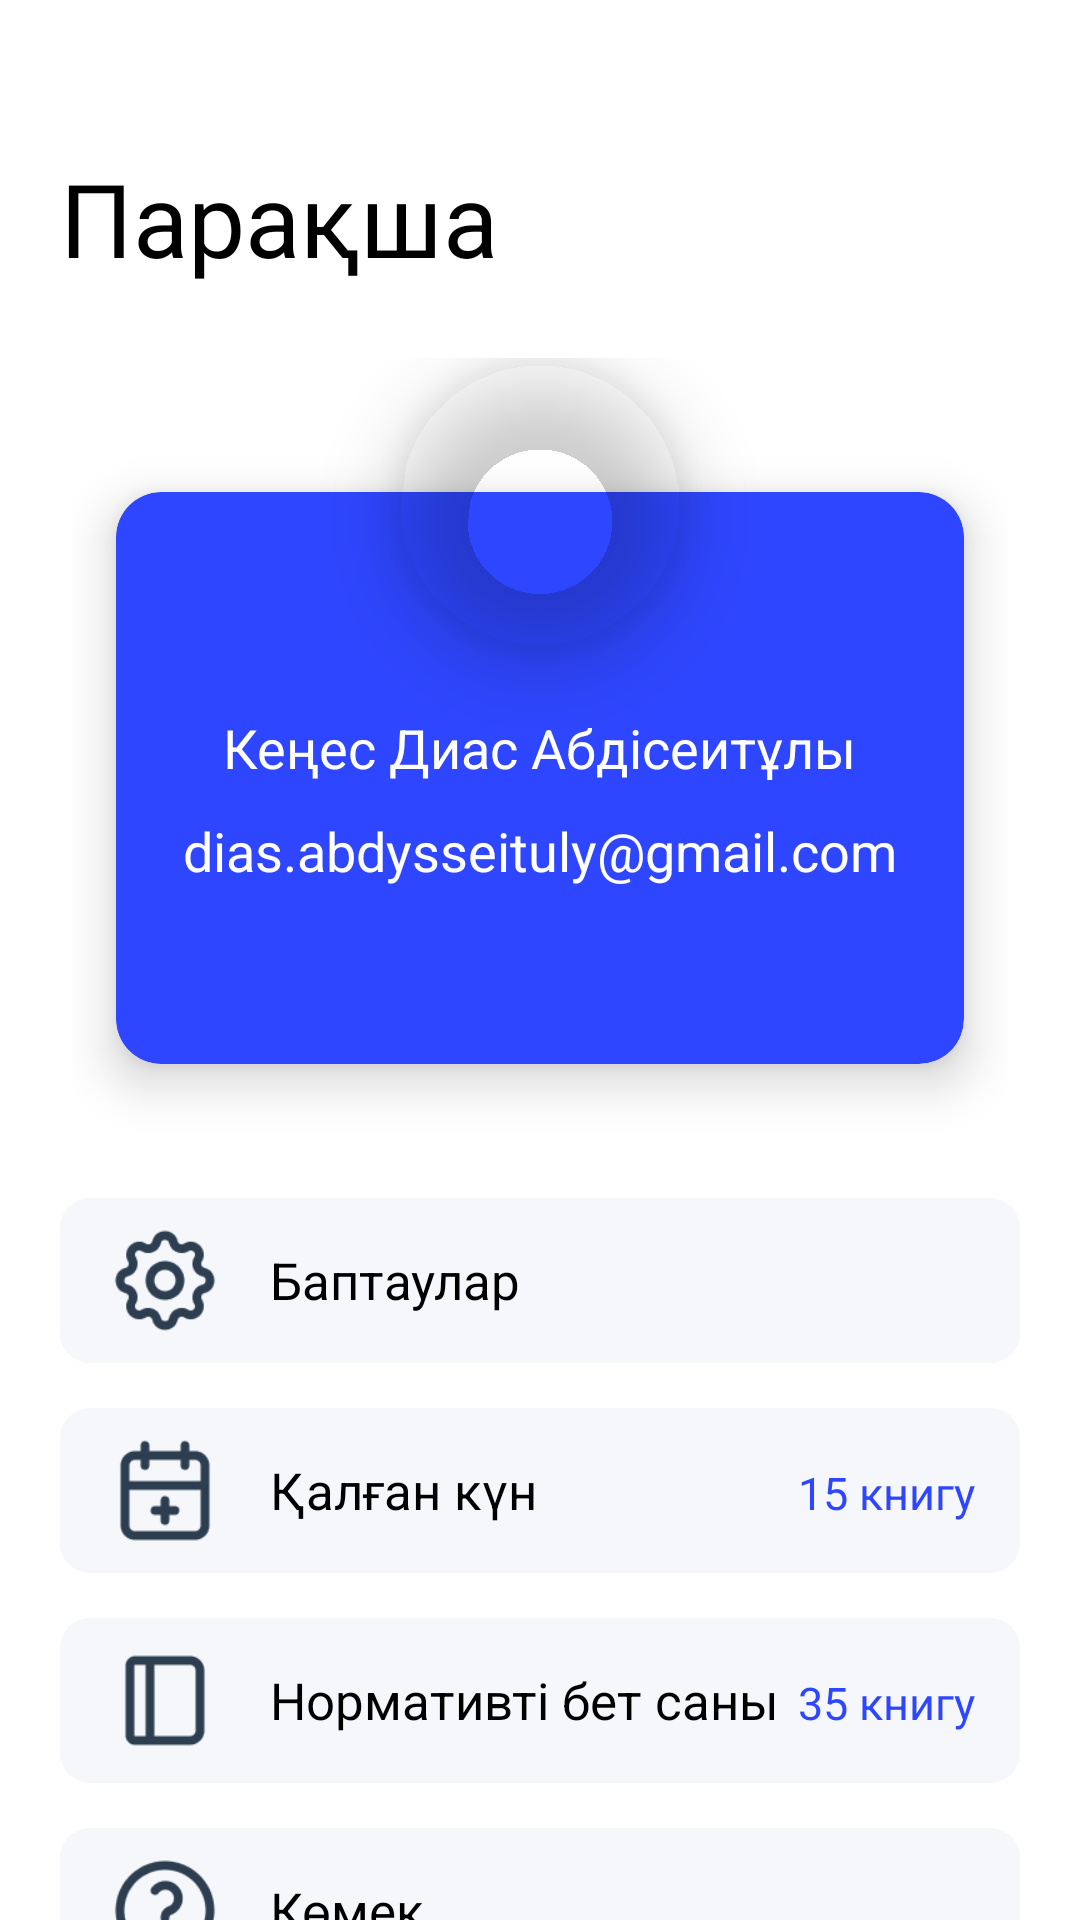

Named icons in this screenshot (1080×1920) and their bounding boxes, (x1,y1,x2,y2):
date: (120,1440,210,1541)
pages: (125,1655,205,1746)
settings: (115,1230,215,1331)
